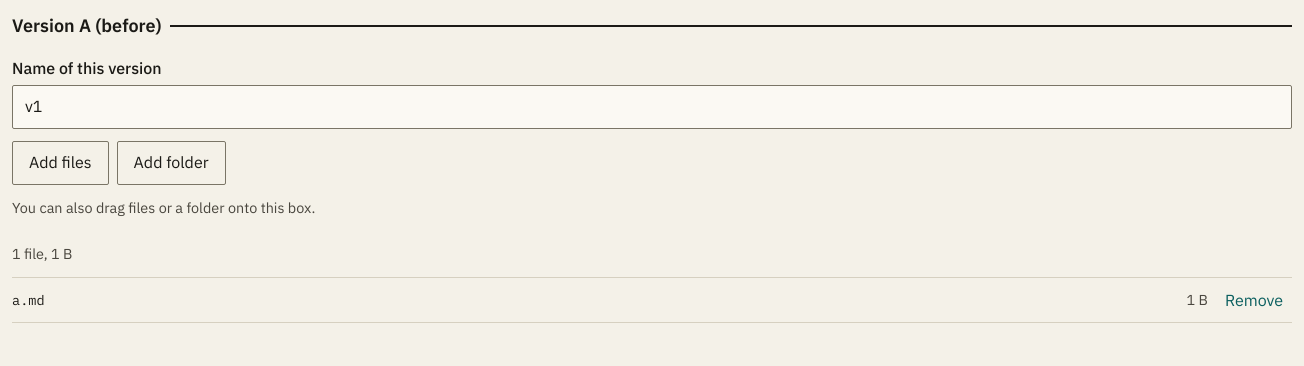
it: drag and drop on a version pane › announces a removal
Click the button with aria-label "Remove a.md from version A": (1254, 300) [1216, 278, 1292, 322]
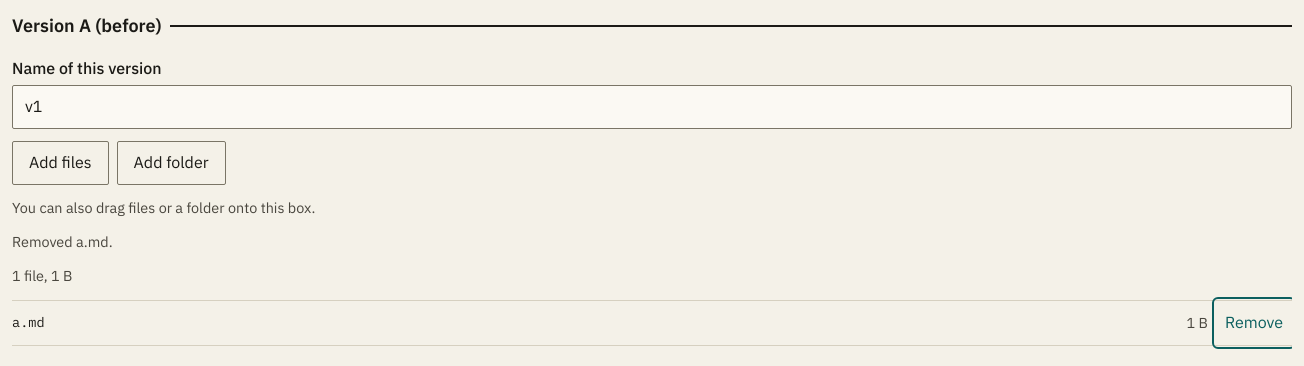
Expected: the text with test id "status-A" reads "Removed a.md.", [12, 232, 113, 251]
